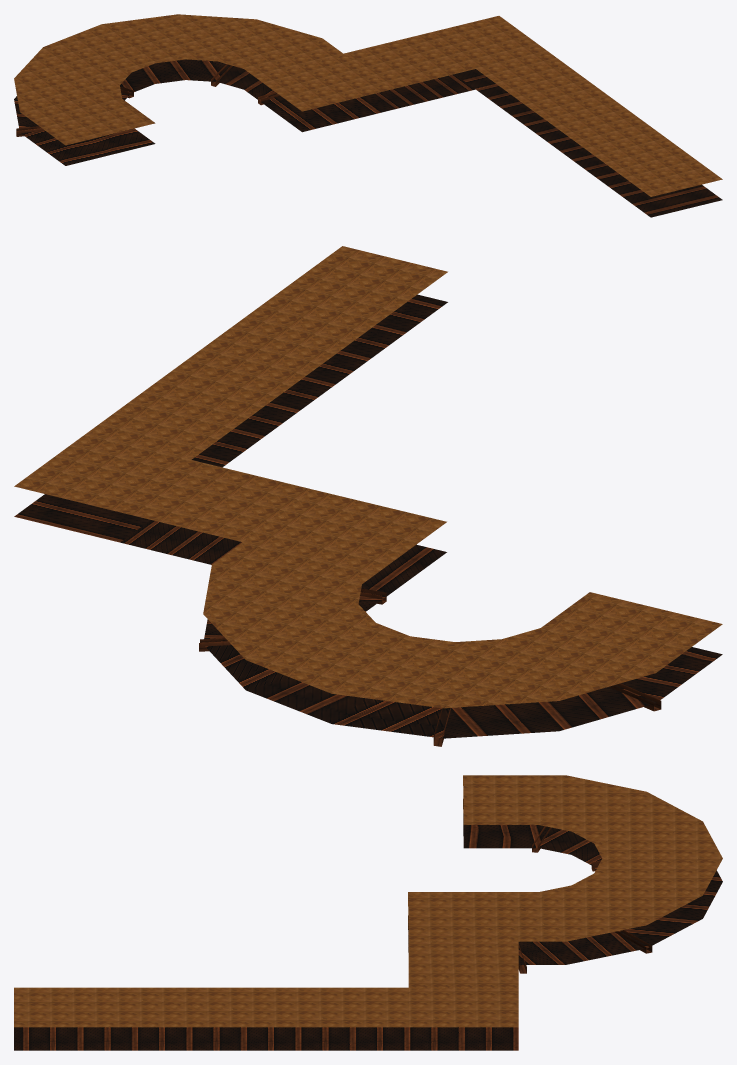
The model's file is Floorbits.fbx.
3 renders of one model, top to bottom at view 1: azimuth 30°, elevation 25°; view 2: azimuth 150°, elevation 25°; view 3: azimuth 270°, elevation 25°, orthographic. The views are drawn at different scales.
Visible parts, largest first — view 1: Circle.003; view 2: Circle.003; view 3: Circle.003.
Part boxes in pixels (x1,y1,x2,y2): Circle.003: (14,14,722,217); Circle.003: (14,246,722,746); Circle.003: (14,775,722,1050).
Size of the model in its own units: 1715 by 85.25 by 2022.
